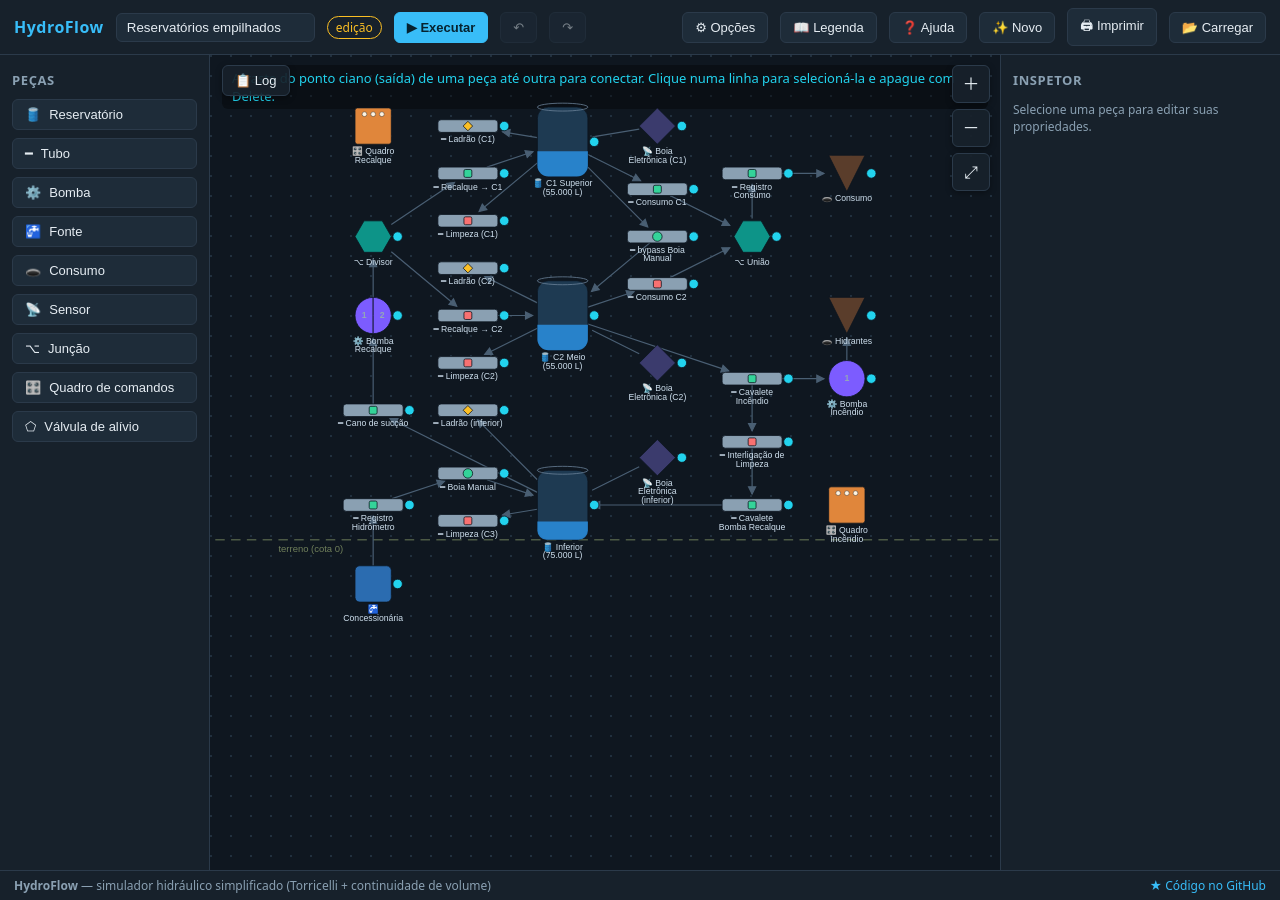
Test: modo execução — validação e transição › entra em execução com o projeto de exemplo válido
Click the button "▶ Executar" at x=441, y=27, box top-left (394, 12), bottom-right (488, 42)
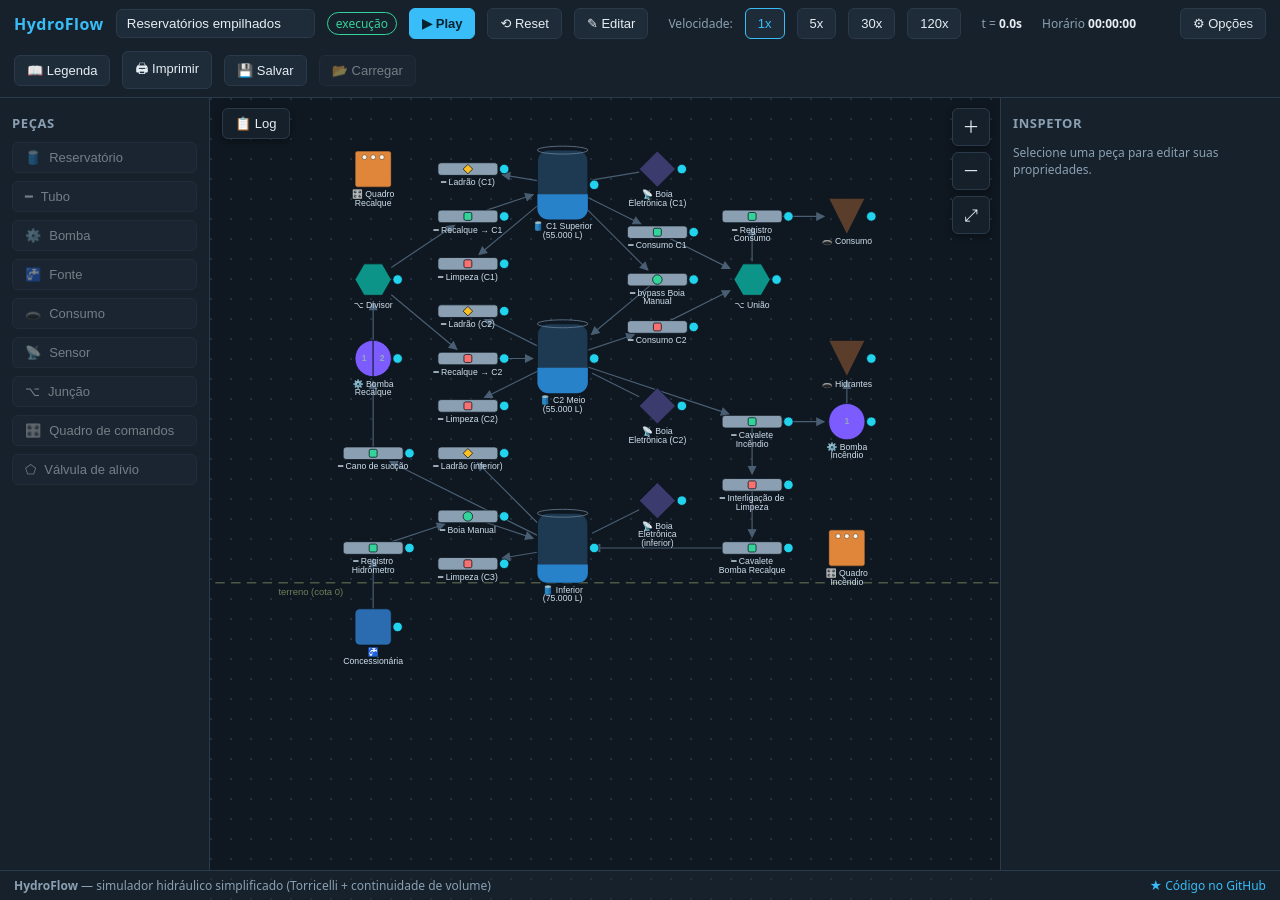
Check: the text "execução" is shown, box top-left (327, 12), bottom-right (397, 35)
Check: the button with aria-label "Adicionar Tubo" is disabled, box top-left (12, 181), bottom-right (197, 212)
